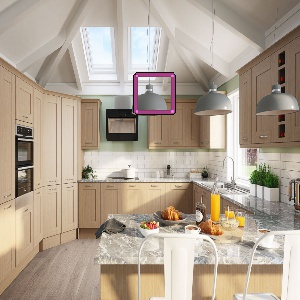square: (129, 70, 180, 117)
